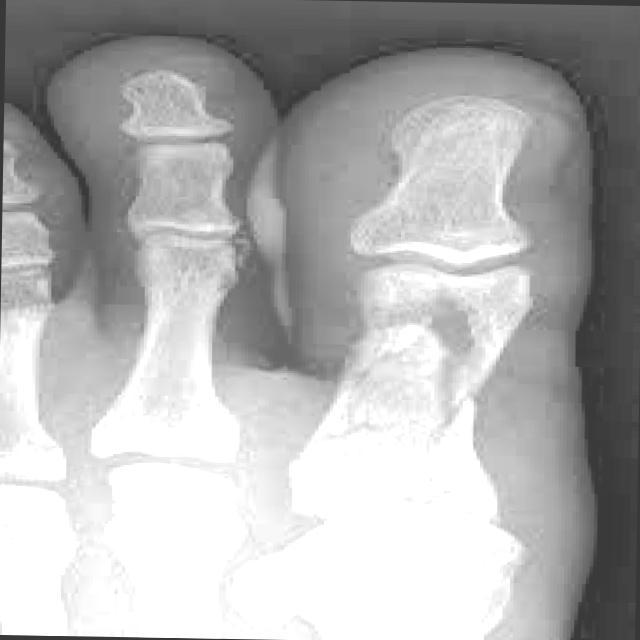Comminuted Fracture: (341, 277, 498, 443)
